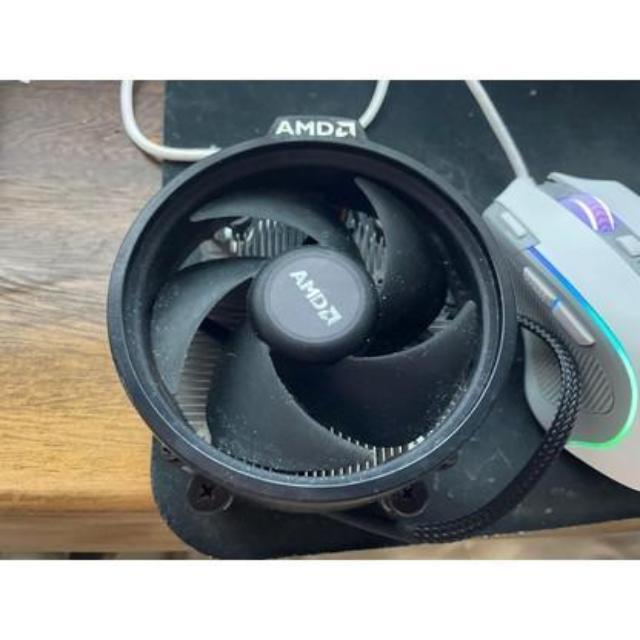CPU_Fan: (114, 113, 514, 516)
